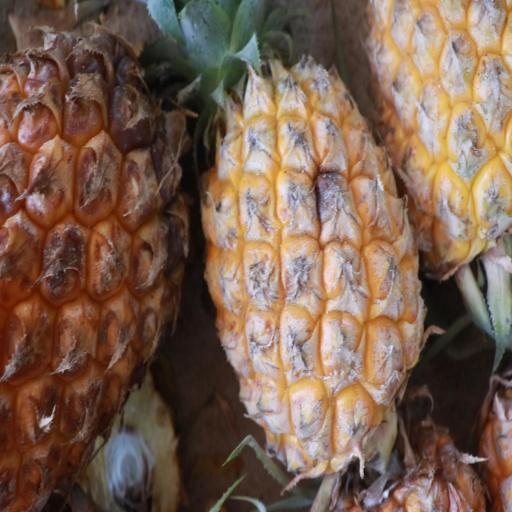Pineapple - v8 v1: (195, 1, 430, 479), (2, 19, 200, 512), (363, 0, 512, 284)
